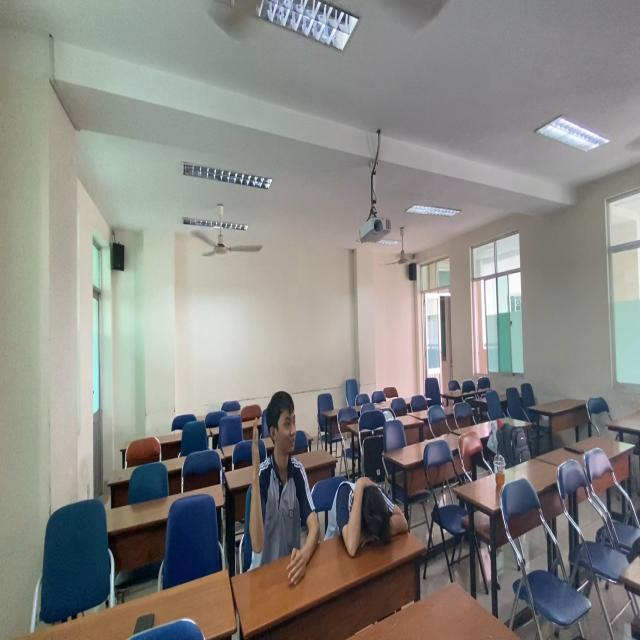raise_hand: (246, 393, 307, 584)
sleep: (315, 472, 419, 564)
